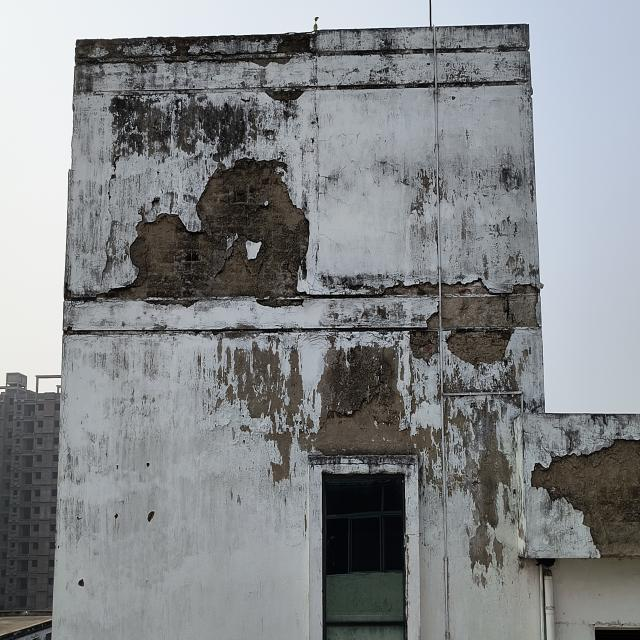Moss growth due to damping: (73, 32, 315, 93), (110, 93, 277, 163)
Scaling: (109, 160, 309, 304), (298, 342, 443, 490), (371, 279, 538, 370), (531, 439, 639, 560), (451, 400, 513, 571), (234, 341, 285, 417), (264, 425, 292, 482), (287, 350, 303, 425), (146, 511, 156, 524), (78, 578, 85, 587)
